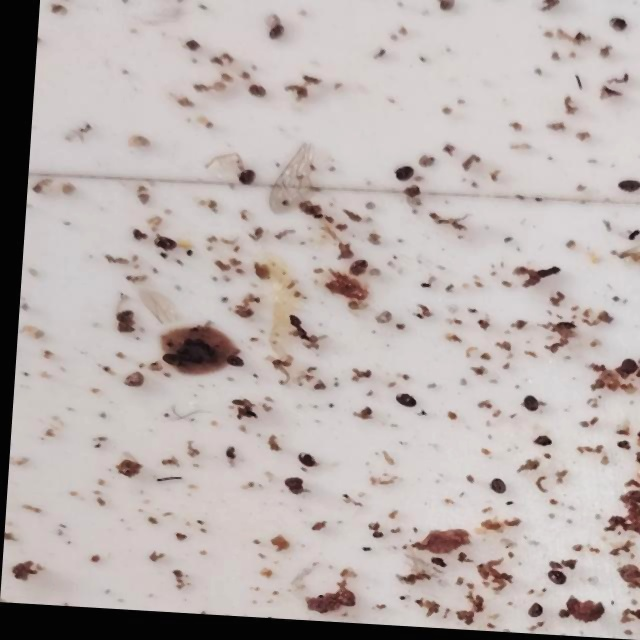varroa: (337, 260, 363, 282), (140, 240, 174, 256), (596, 13, 620, 35), (608, 176, 637, 194), (386, 166, 411, 185), (482, 474, 504, 495), (515, 393, 538, 413), (543, 567, 567, 586), (227, 172, 251, 191), (291, 454, 316, 472), (388, 393, 413, 411), (522, 600, 545, 619), (154, 358, 180, 374), (615, 354, 634, 375), (257, 27, 278, 46), (235, 86, 257, 103), (217, 358, 242, 371)
